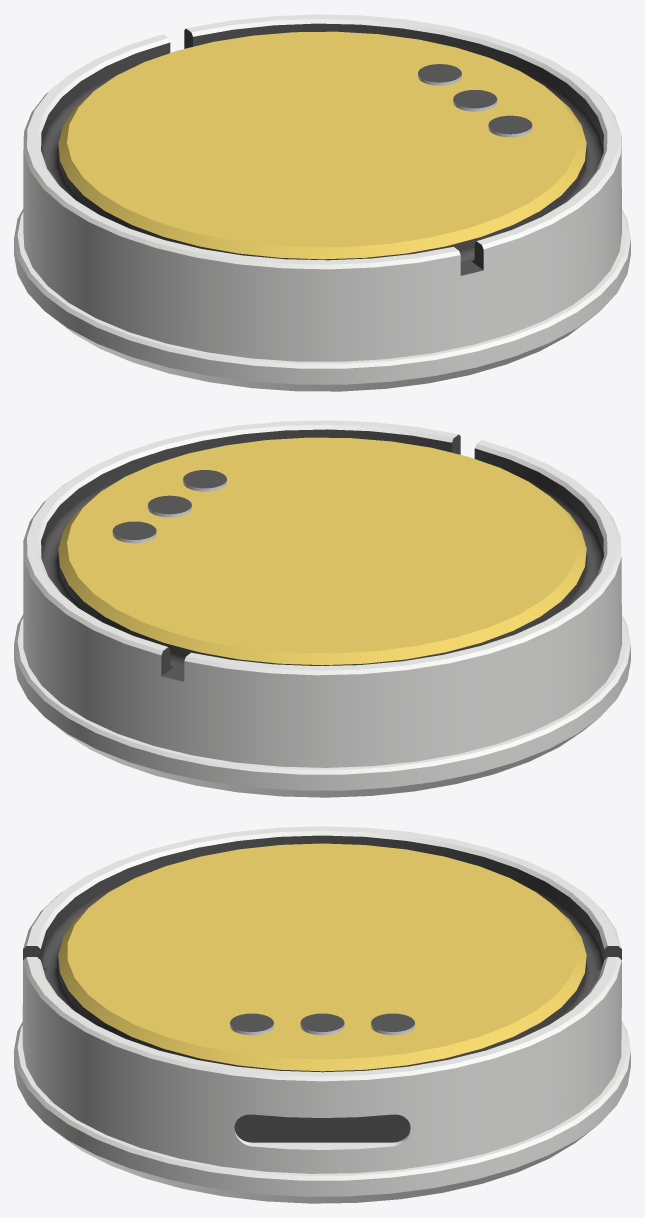
File: own_vacuum.dae
3 renders of one model, top to bottom at view 1: azimuth 30°, elevation 25°; view 2: azimuth 150°, elevation 25°; view 3: azimuth 270°, elevation 25°, orthographic.
Parts seen in each view (by area): view 1: own_vacuum.001; view 2: own_vacuum.001; view 3: own_vacuum.001.
Part boxes in pixels (left/top/right/bottom): own_vacuum.001: left=14, top=14, right=630, bottom=391; own_vacuum.001: left=14, top=420, right=630, bottom=797; own_vacuum.001: left=14, top=826, right=630, bottom=1203.
Size of the model in its own units: 34.9 by 35 by 12.7.
